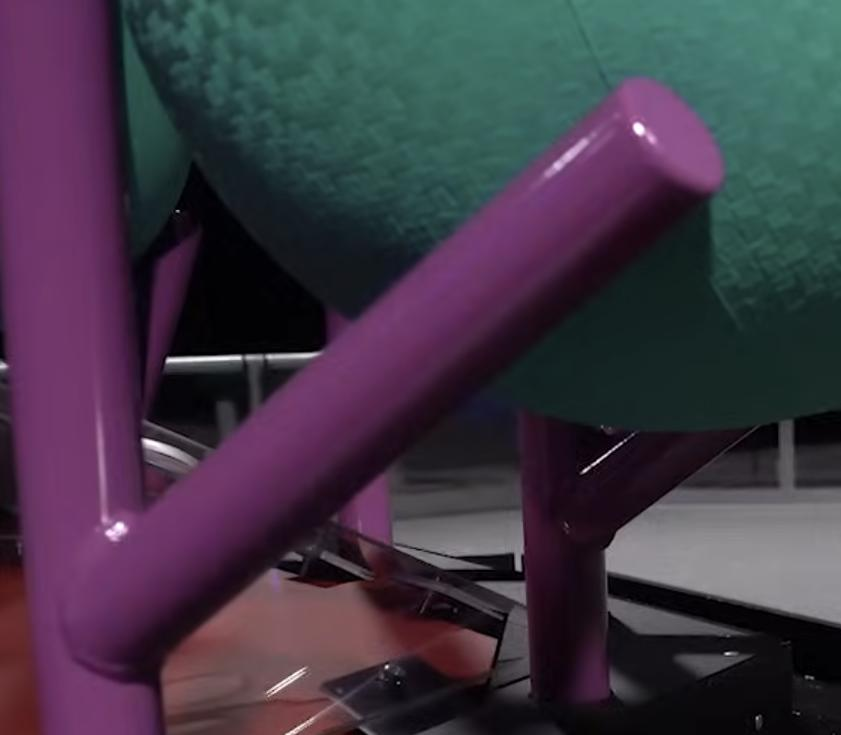algae: (126, 1, 841, 426), (125, 2, 192, 250)
